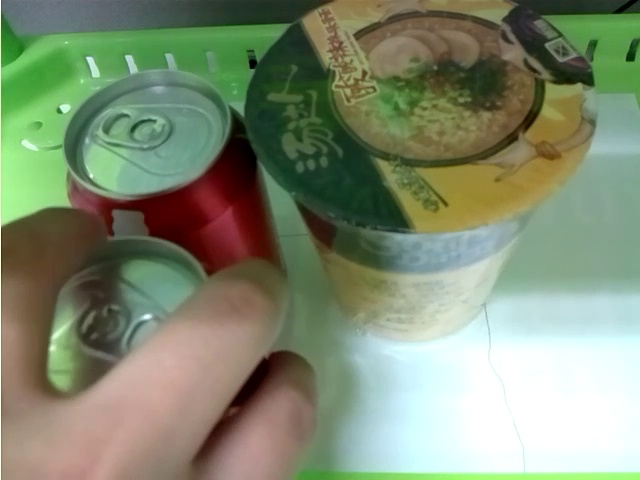cocacola: (65, 68, 284, 281), (31, 241, 222, 385)
hand: (1, 207, 319, 466)
noodles: (241, 1, 598, 343)
